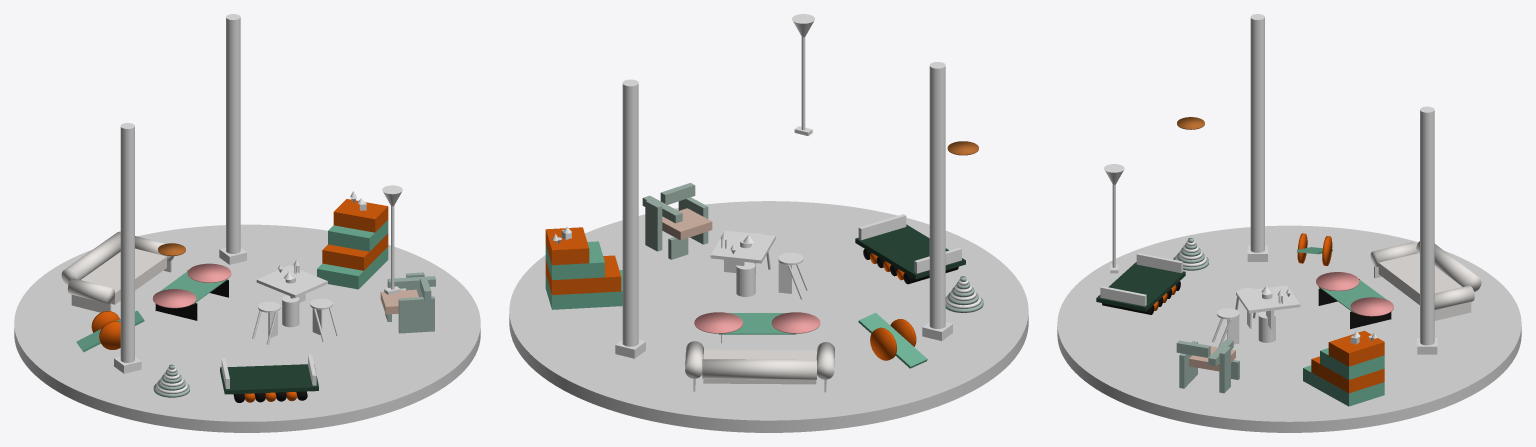
File: StanzadiprovaParent.gltf
3 renders of one model, left to right at view 1: azimuth 30°, elevation 25°; view 2: azimuth 150°, elevation 25°; view 3: azimuth 270°, elevation 25°, orthographic. The views are drawn at different scales.
Visible parts, largest first — view 1: Cylinder.001, Cylinder.002, Cylinder.025, Cube.042, Cube.064, Cube.006, Cube.025, Cube.010, Cube.011, Cylinder.066, Cube.052, Cube.009 (+7 smaller); view 2: Cylinder.001, Cylinder.025, Cylinder.002, Cylinder.066, Cube.042, Cube.064, Cube.010, Cube.052, Cube.006, Cube.011, Cube.009, Cube.005 (+12 smaller); view 3: Cylinder.001, Cylinder.025, Cylinder.002, Cube.042, Cube.064, Cube.006, Cube.011, Cube.052, Cube.010, Cylinder.066, Cube.009, Circle.001 (+9 smaller).
Part boxes in pixels (x1,y1,x2,y2): Cylinder.001: (14,224,480,432); Cylinder.002: (120,123,134,362); Cylinder.025: (226,14,240,253); Cube.042: (220,364,318,394); Cube.064: (81,248,166,304); Cube.006: (333,199,388,232); Cube.025: (398,296,434,333); Cube.010: (322,233,388,270); Cube.011: (317,247,388,289); Cylinder.066: (61,231,120,284); Cube.052: (256,265,327,297); Cube.009: (328,220,388,251); Cylinder.001: (509,201,1028,432); Cylinder.025: (622,79,638,346); Cylinder.002: (929,62,945,328); Cylinder.066: (702,359,816,379); Cube.042: (855,224,965,279); Cube.064: (703,349,816,384); Cube.010: (545,255,621,295); Cube.052: (710,230,775,263); Cube.006: (545,227,589,265); Cube.011: (545,270,622,309); Cube.009: (545,241,604,280); Cube.005: (858,312,927,368); Cylinder.001: (1057,225,1521,432); Cylinder.025: (1420,106,1434,345); Cylinder.002: (1250,14,1264,252); Cube.042: (1096,262,1185,311); Cube.064: (1378,253,1461,304); Cube.006: (1328,330,1384,366); Cube.011: (1303,365,1384,406); Cube.052: (1236,285,1300,313); Cube.010: (1311,356,1384,393); Cylinder.066: (1416,241,1481,291); Cube.009: (1320,348,1384,379); Circle.001: (1350,297,1393,316).
Size of the model in its own units: 6.1 by 3.65 by 6.1.
